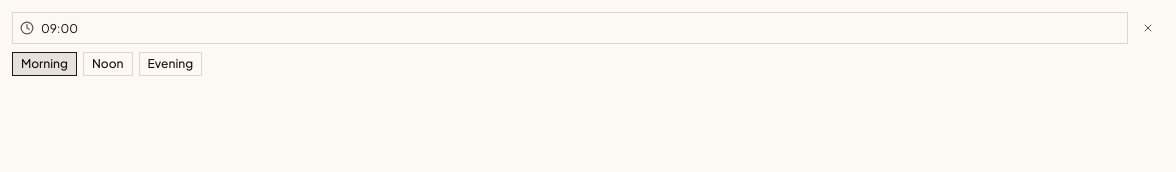
TimePicker › Clear Functionality › clears the input value when clear button is clicked
Step 1. Click the button with test id "time-picker-clear" → [1148, 28], box [1132, 12, 1164, 44]
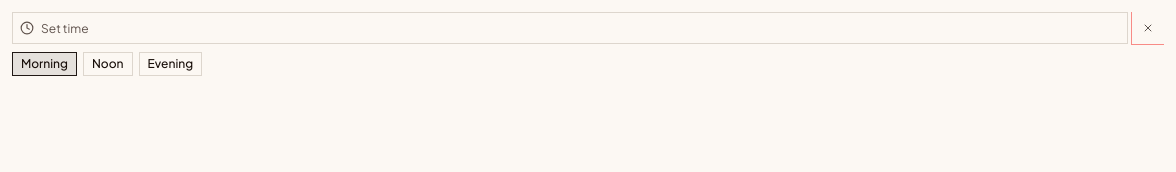
Result: the field with test id "time-picker-input" is empty at [12, 12, 1128, 44]
